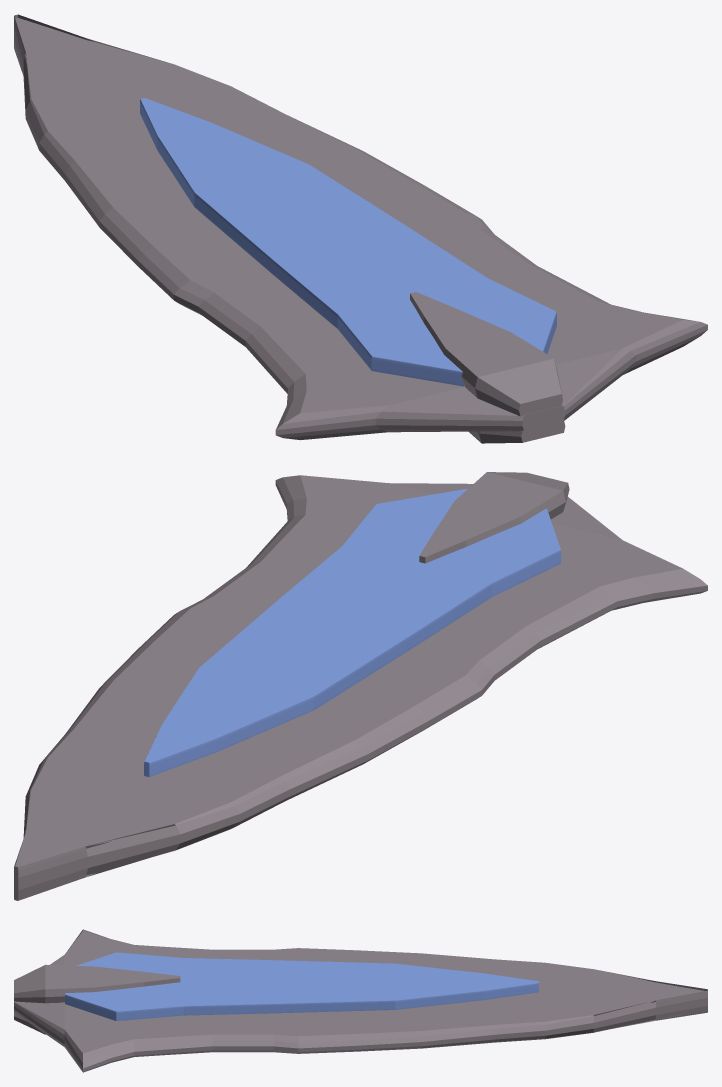
The model's file is SPEARCUT 1.fbx.
3 views of the same model, one above another, from view 1: azimuth 30°, elevation 25°; view 2: azimuth 150°, elevation 25°; view 3: azimuth 270°, elevation 25° (orthographic). The views are drawn at different scales.
Parts seen in each view (by area): view 1: 90; view 2: 90; view 3: 90.
Boxes of the visible parts, bbox=[...] form: 90: bbox=[14, 14, 707, 443]; 90: bbox=[14, 472, 707, 900]; 90: bbox=[14, 929, 707, 1072].
Bounding box in the file's own units: 19.8 × 2.95 × 41.9.
